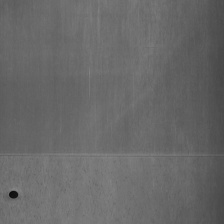punching_hole: (1, 149, 223, 161), (8, 187, 19, 200)
